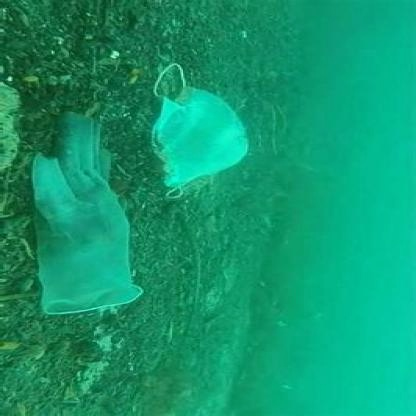Mask: (147, 65, 250, 195)
glove: (28, 108, 149, 323)
